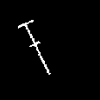double_crochet: (18, 20, 50, 73)
